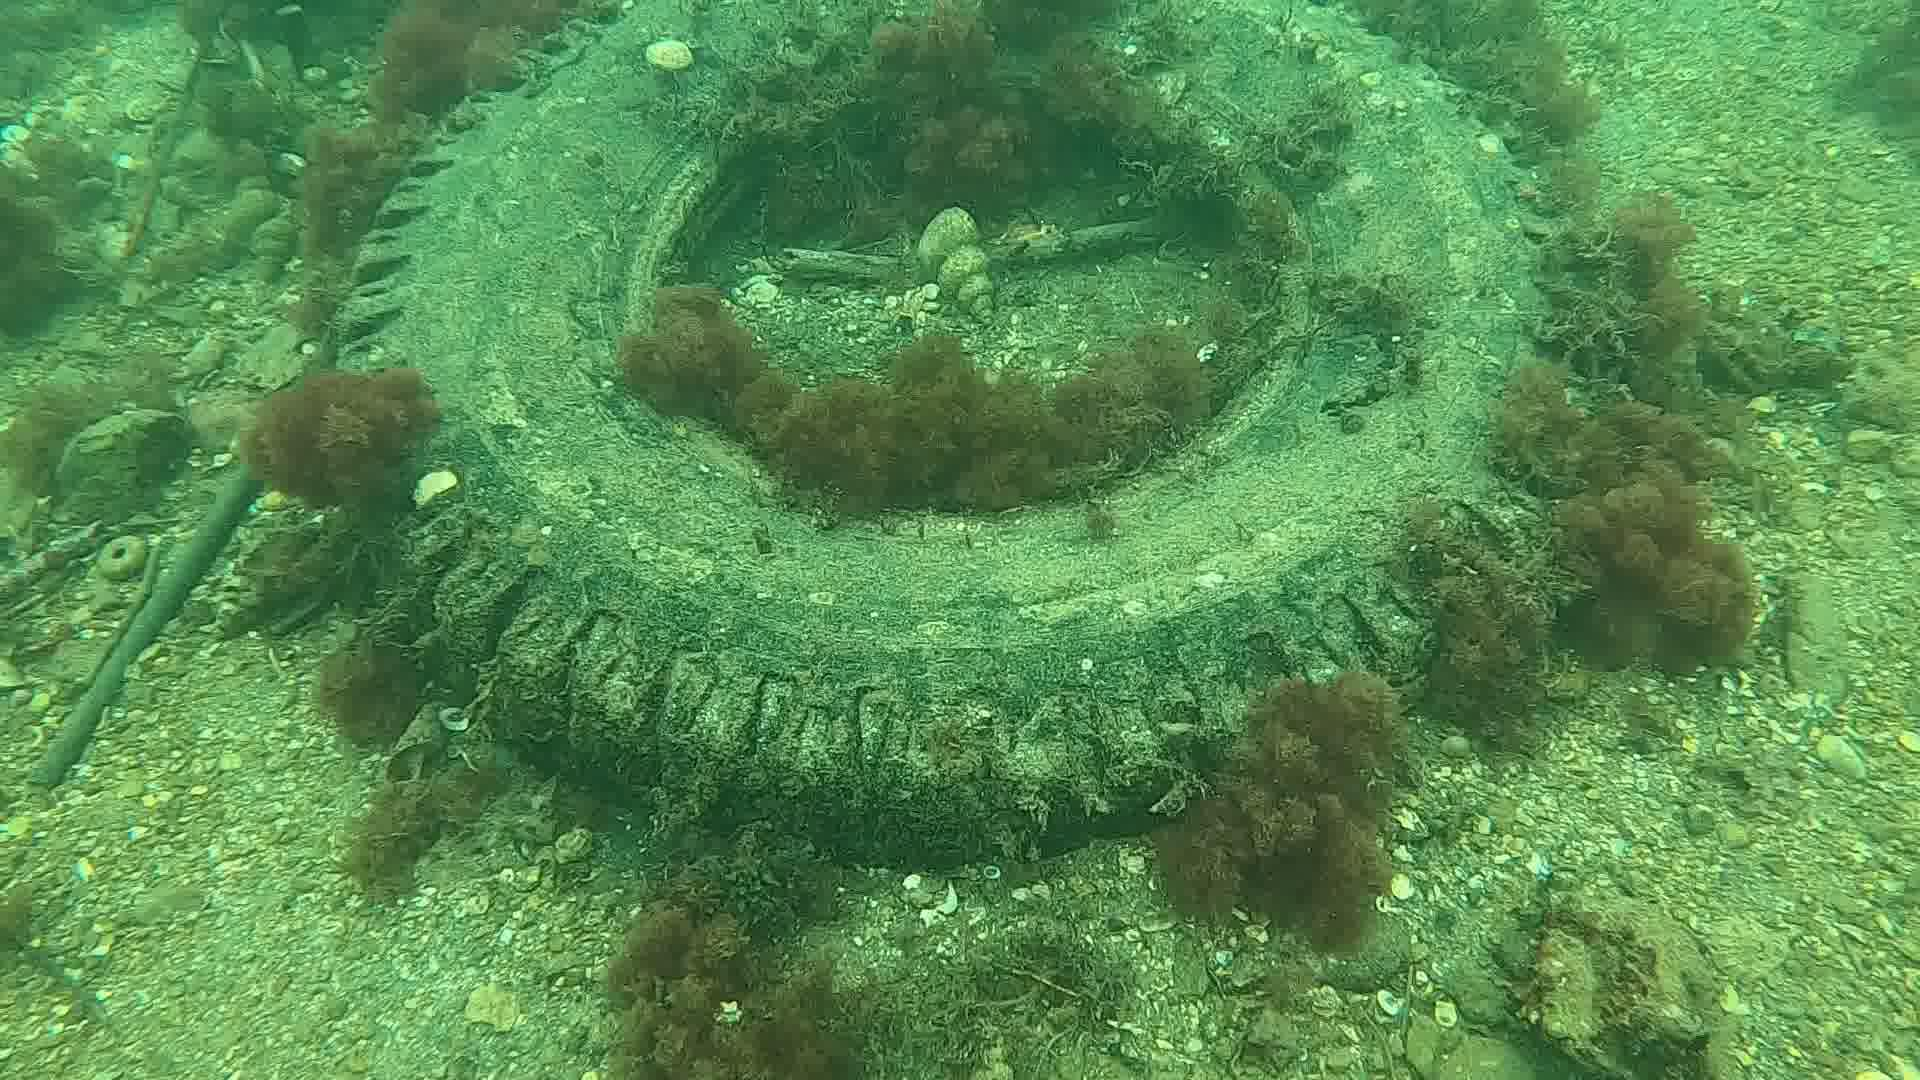tire: (340, 0, 1578, 872)
